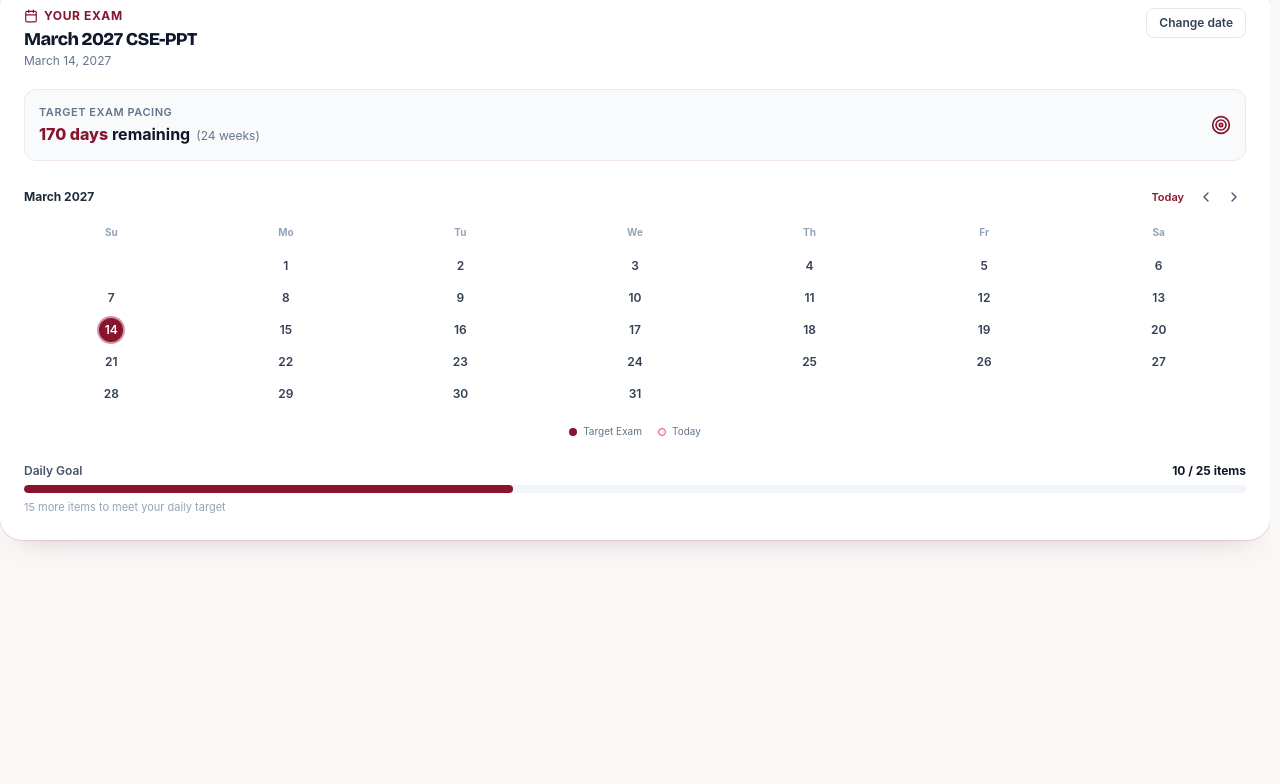
Test: ExamCalendarCard Component › opens accessible inline editor with htmlFor and id bindings (D03)
Step 1. Click the button "Change date" → (1196, 23), box [1146,8,1246,38]
(page scrolled)
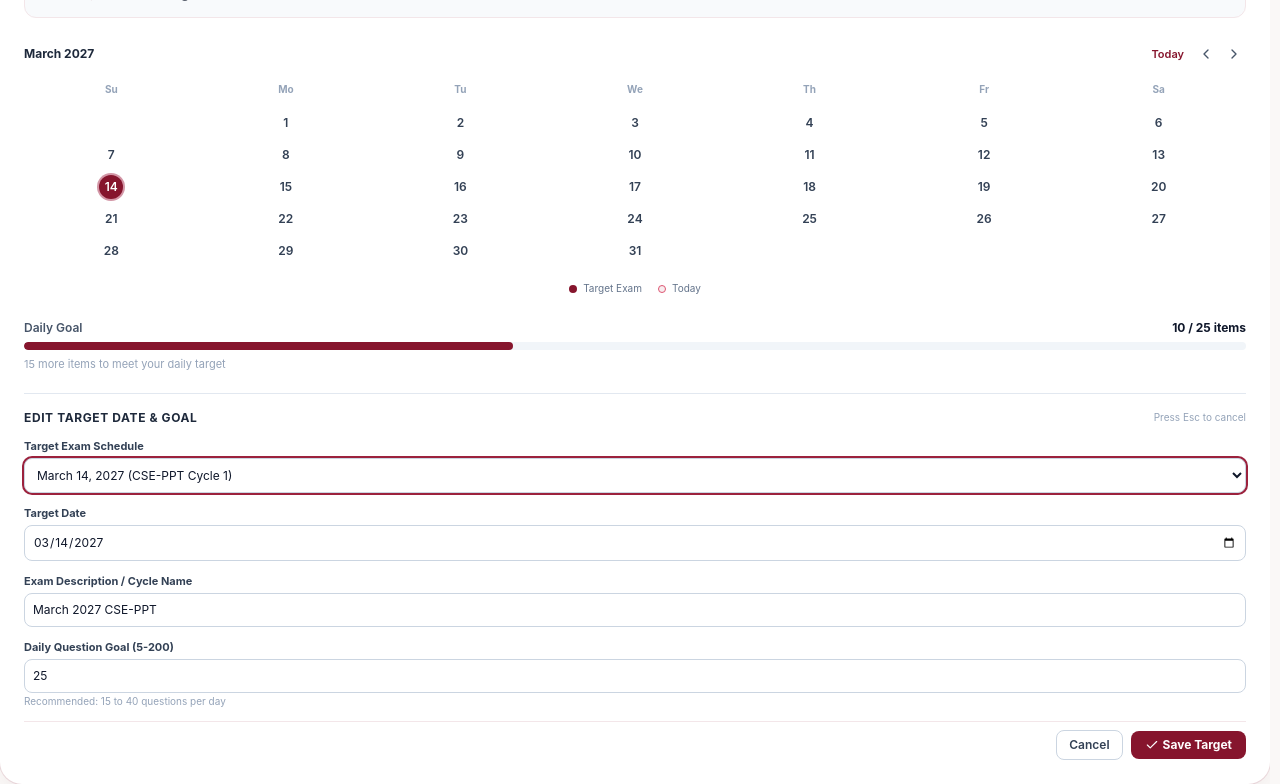
Check: the dropdown labelled "Target Exam Schedule" is shown, box [24,458,1246,492]
Check: the date field labelled "Target Date" is shown, box [24,524,1246,560]
Check: the number field labelled "Daily Question Goal (5-200)" is shown, box [24,658,1246,692]
